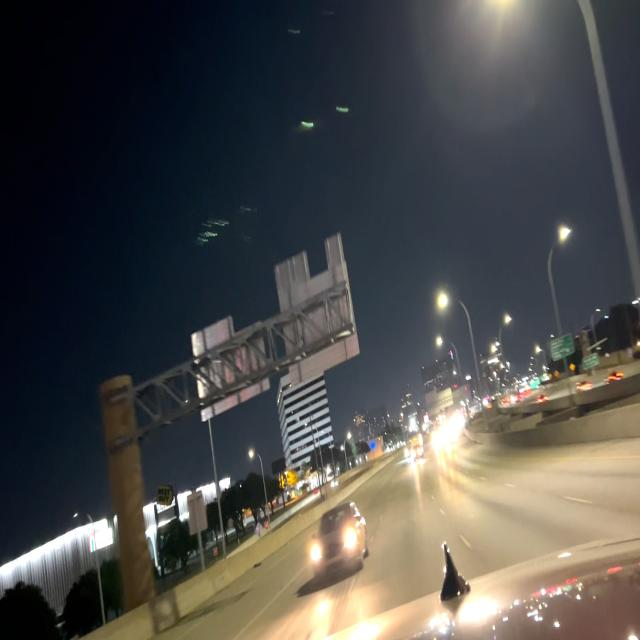back-of-sign: (276, 231, 362, 380), (192, 313, 268, 418), (186, 488, 208, 539), (425, 386, 454, 414)
